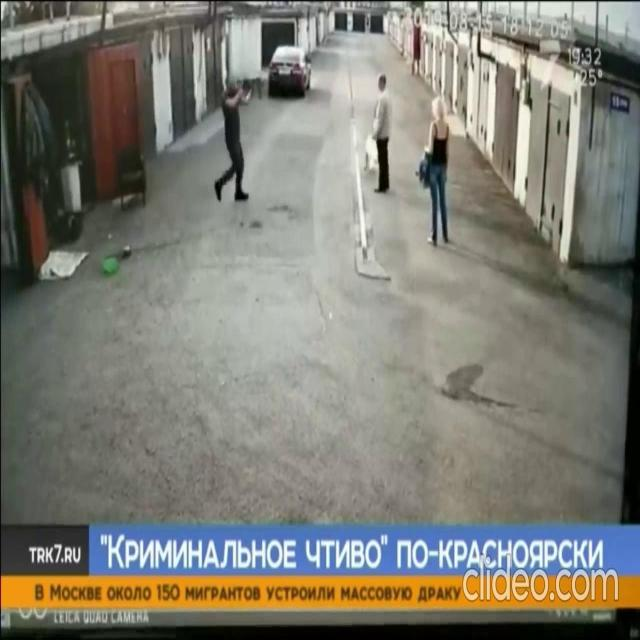pistol: (238, 76, 268, 95)
